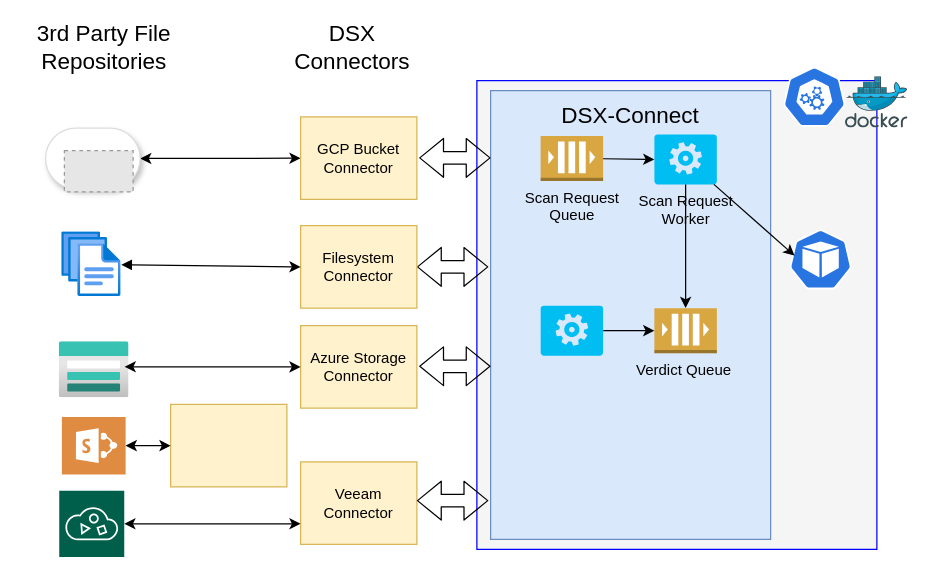
Image size: 929x579. Some labels were removed from this diagram. Grey dashed boxes stand in for pictures. The shapes that lost their labels are listed below. From the top down, each one's centre as x and y in pixels, then its label:
At point 820,258: "DSXA".
At point 571,330: "Verdict Worker".
At point 228,445: "Sharepoint Connector".
